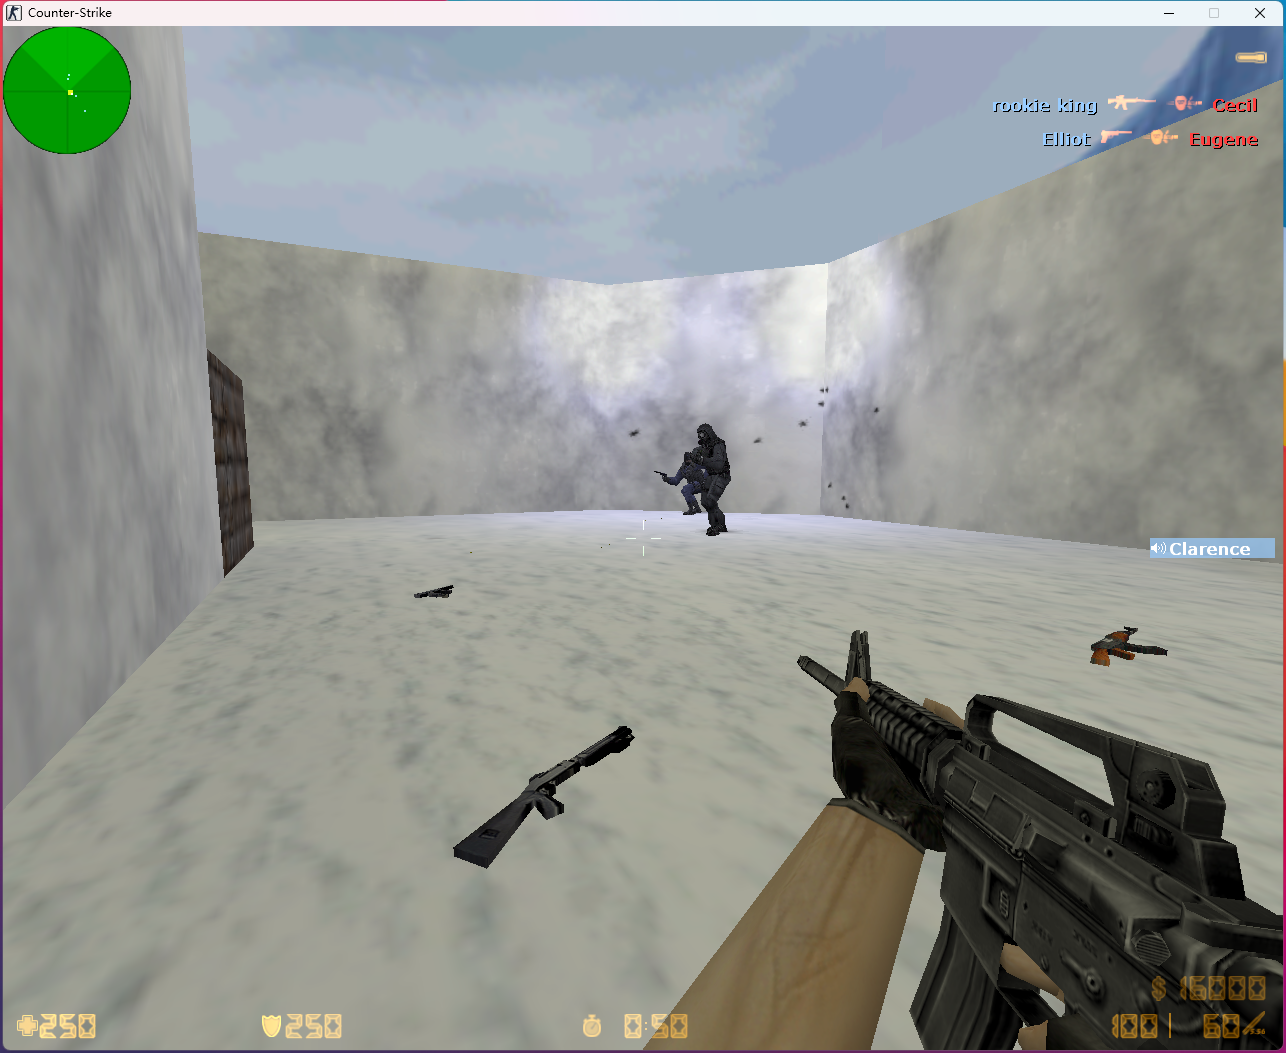C: (692, 423, 732, 537), (659, 452, 706, 516)
weapon: (453, 727, 633, 871), (1091, 626, 1170, 667), (413, 581, 454, 600)
